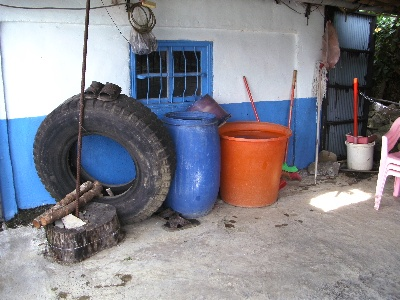bucket: (218, 120, 292, 206), (165, 110, 221, 219), (344, 140, 375, 171)
tire: (32, 92, 177, 224)
